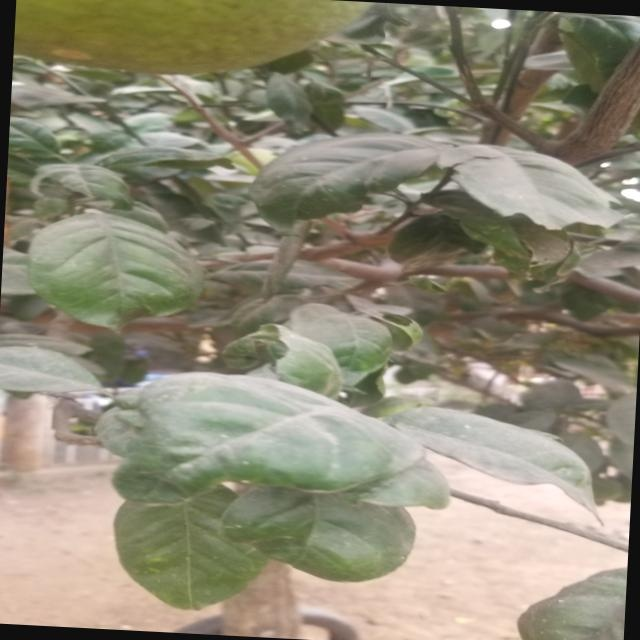agrume: (12, 0, 395, 98)
